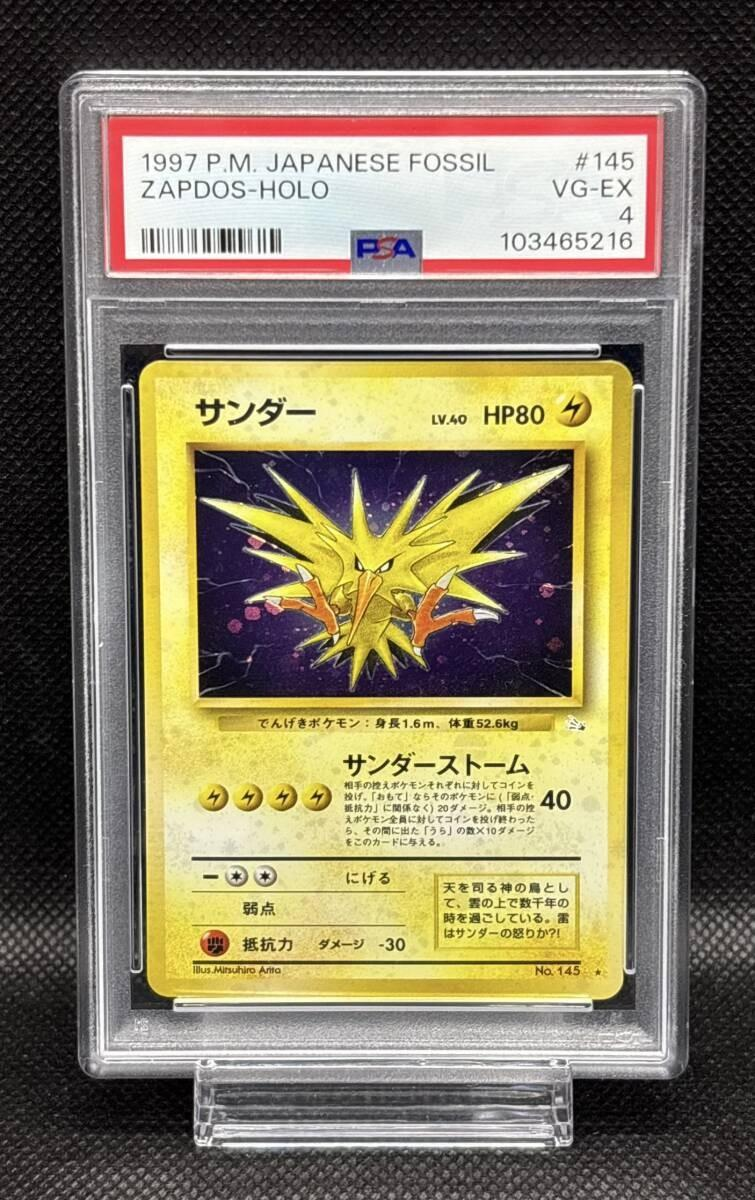card-2UtV: (137, 359, 634, 1001)
